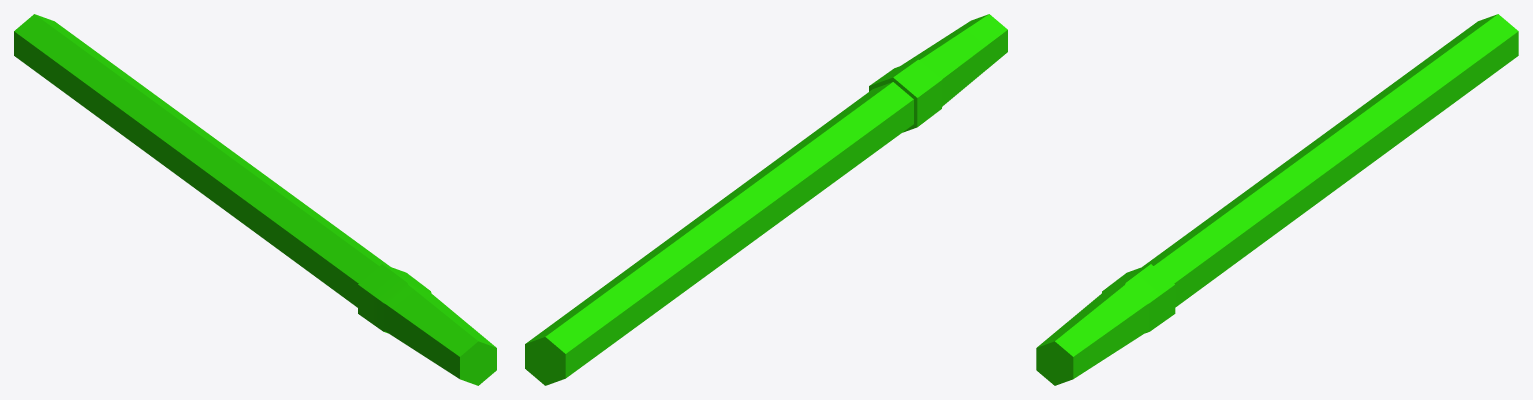
File: Felt_Pen_04.fbx
3 views of the same model, side by side, from view 1: azimuth 30°, elevation 25°; view 2: azimuth 150°, elevation 25°; view 3: azimuth 330°, elevation 25° (orthographic).
Visible parts, largest first — view 1: Felt_Pen_04; view 2: Felt_Pen_04; view 3: Felt_Pen_04.
Boxes of the visible parts, <box> form: Felt_Pen_04: <box>14,14,496,385</box>; Felt_Pen_04: <box>525,14,1007,385</box>; Felt_Pen_04: <box>1036,14,1518,385</box>.
Size of the model in its own units: 0.9927 by 1.15 by 15.73.
